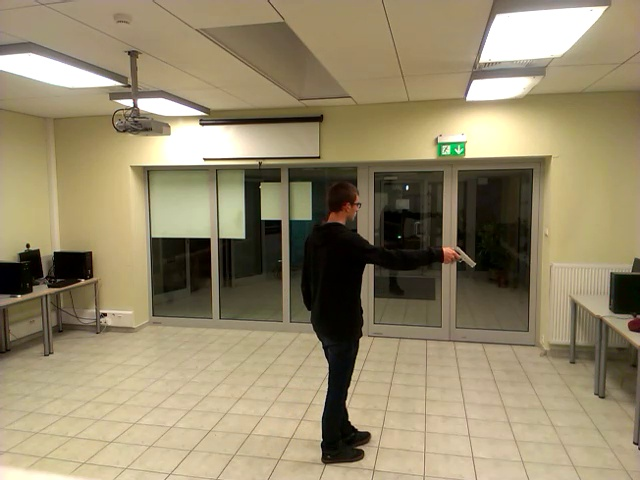gun: (445, 226, 484, 281)
